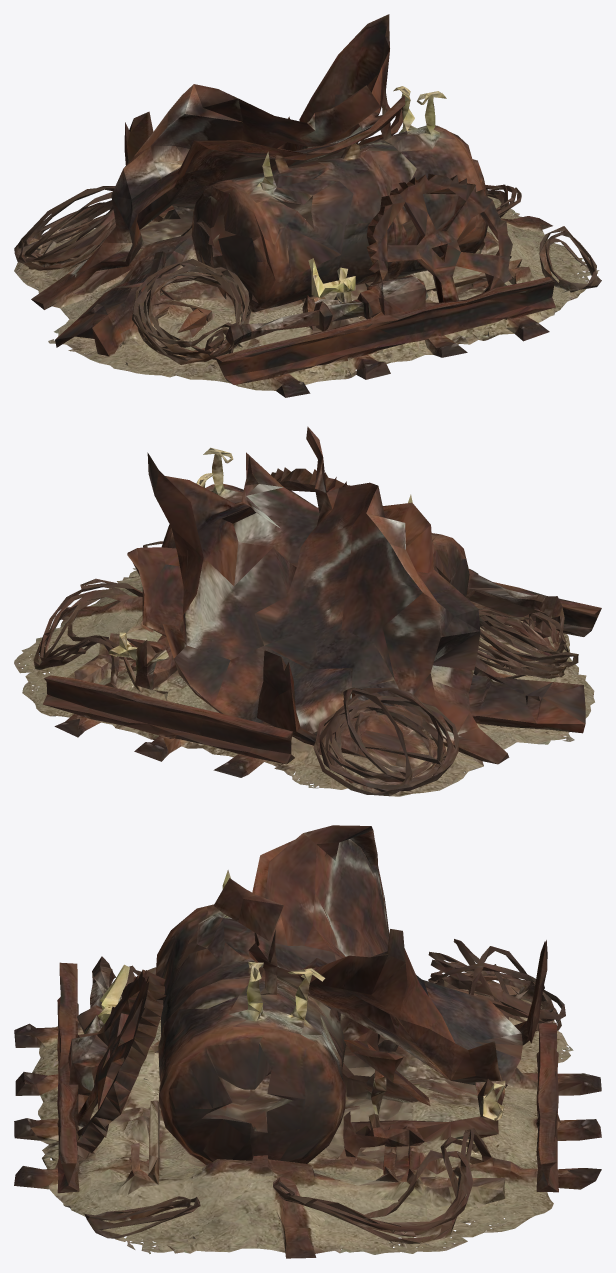
The model's file is scrap_heap_b.glb.
3 views of the same model, one above another, from view 1: azimuth 30°, elevation 25°; view 2: azimuth 150°, elevation 25°; view 3: azimuth 270°, elevation 25° (orthographic). The views are drawn at different scales.
Visible parts, largest first — view 1: mesh_node; view 2: mesh_node; view 3: mesh_node.
Part boxes in pixels (x1,y1,x2,y2): mesh_node: (14,14,601,397); mesh_node: (14,426,601,796); mesh_node: (14,825,601,1258).
Size of the model in its own units: 1.89 by 0.768 by 1.58.
1 material, 1 textured.
